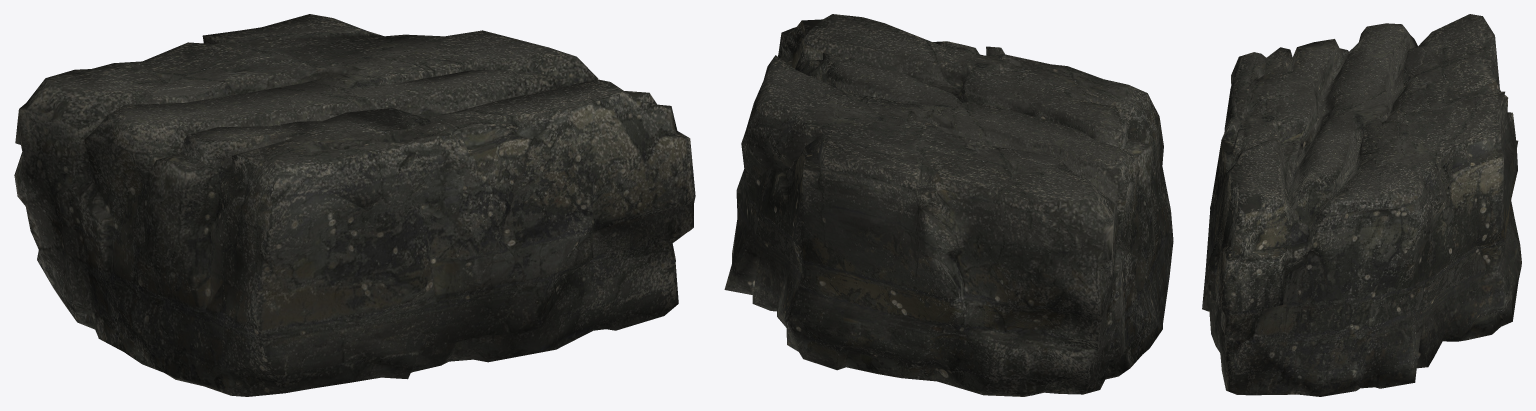
File: Beach_Boulder_uisjbbis_Low.gltf
3 views of the same model, side by side, from view 1: azimuth 30°, elevation 25°; view 2: azimuth 150°, elevation 25°; view 3: azimuth 270°, elevation 25° (orthographic). The views are drawn at different scales.
Parts seen in each view (by area): view 1: uisjbbis_LOD0_TIER3_000; view 2: uisjbbis_LOD0_TIER3_000; view 3: uisjbbis_LOD0_TIER3_000.
Boxes of the visible parts, x1,y1,x2,y2 form: uisjbbis_LOD0_TIER3_000: (14,14,695,396); uisjbbis_LOD0_TIER3_000: (724,14,1173,396); uisjbbis_LOD0_TIER3_000: (1202,14,1521,396).
Size of the model in its own units: 1.19 by 0.5232 by 0.7782.
1 material, 1 textured.
